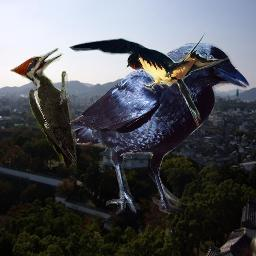Crow: (69, 43, 250, 217)
Swallow: (66, 30, 249, 126)
Woodpecker: (10, 48, 77, 170)
